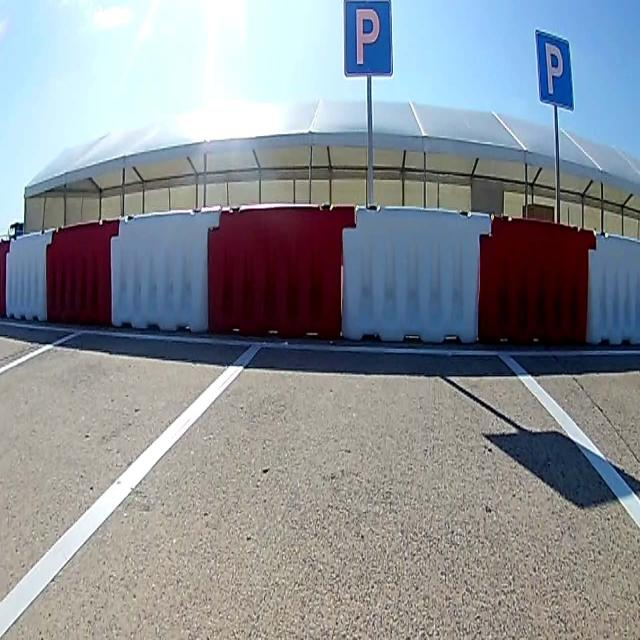park: (343, 2, 393, 74), (534, 30, 572, 107)
